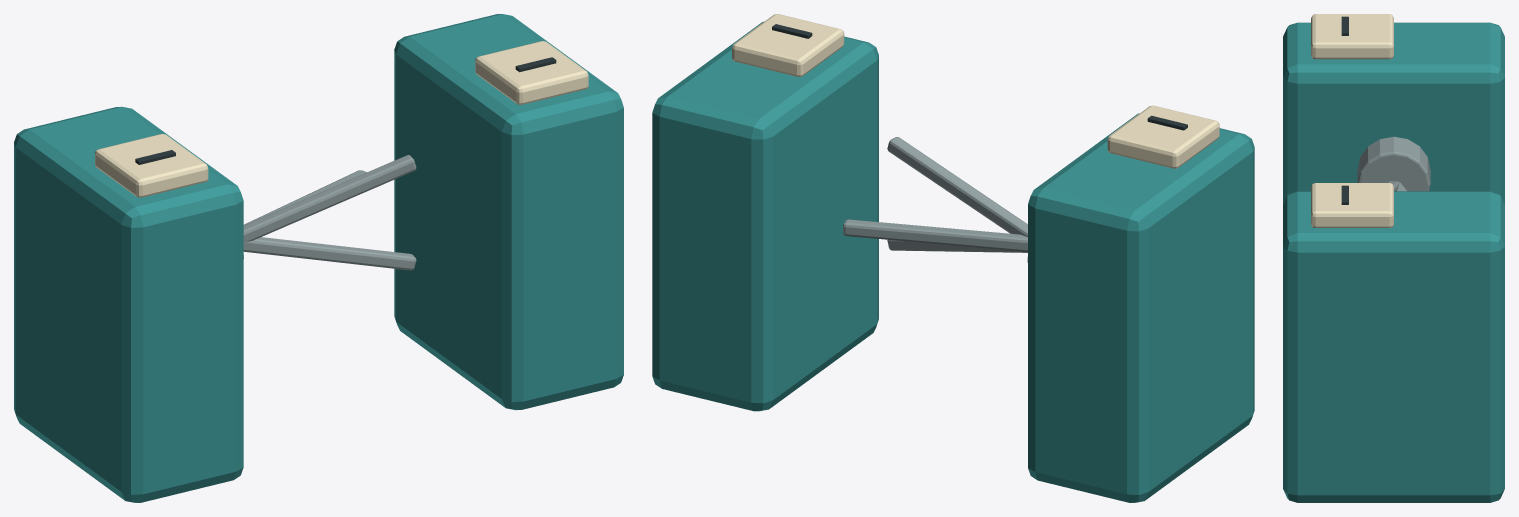
The model's file is S099_ticket_turnstile.glb.
3 views of the same model, side by side, from view 1: azimuth 30°, elevation 25°; view 2: azimuth 150°, elevation 25°; view 3: azimuth 270°, elevation 25° (orthographic). The views are drawn at different scales.
Parts seen in each view (by area): view 1: turnstile_housing, turnstile_housing.001, reader_top, reader_top.001, turnstile_bar.001, turnstile_bar.002; view 2: turnstile_housing, turnstile_housing.001, reader_top, reader_top.001, turnstile_bar, turnstile_bar.001, turnstile_bar.002; view 3: turnstile_housing.001, turnstile_housing, reader_top, reader_top.001, turnstile_hub.
Boxes of the visible parts, left/top/right/bottom form: turnstile_housing: left=14, top=106, right=243, bottom=502; turnstile_housing.001: left=394, top=14, right=623, bottom=410; reader_top: left=95, top=134, right=208, bottom=197; reader_top.001: left=475, top=41, right=588, bottom=104; turnstile_bar.001: left=243, top=155, right=416, bottom=242; turnstile_bar.002: left=243, top=237, right=416, bottom=270; turnstile_housing: left=1028, top=113, right=1254, bottom=502; turnstile_housing.001: left=652, top=21, right=878, bottom=411; reader_top: left=1107, top=105, right=1219, bottom=168; reader_top.001: left=732, top=14, right=844, bottom=76; turnstile_bar: left=843, top=219, right=1027, bottom=251; turnstile_bar.001: left=887, top=137, right=1027, bottom=236; turnstile_bar.002: left=887, top=239, right=1027, bottom=252; turnstile_housing.001: left=1283, top=191, right=1504, bottom=502; turnstile_housing: left=1283, top=22, right=1504, bottom=204; reader_top: left=1311, top=14, right=1393, bottom=59; reader_top.001: left=1311, top=183, right=1393, bottom=227; turnstile_hub: left=1357, top=136, right=1430, bottom=191.
Size of the model in its own units: 2.16 by 1.31 by 0.91.
